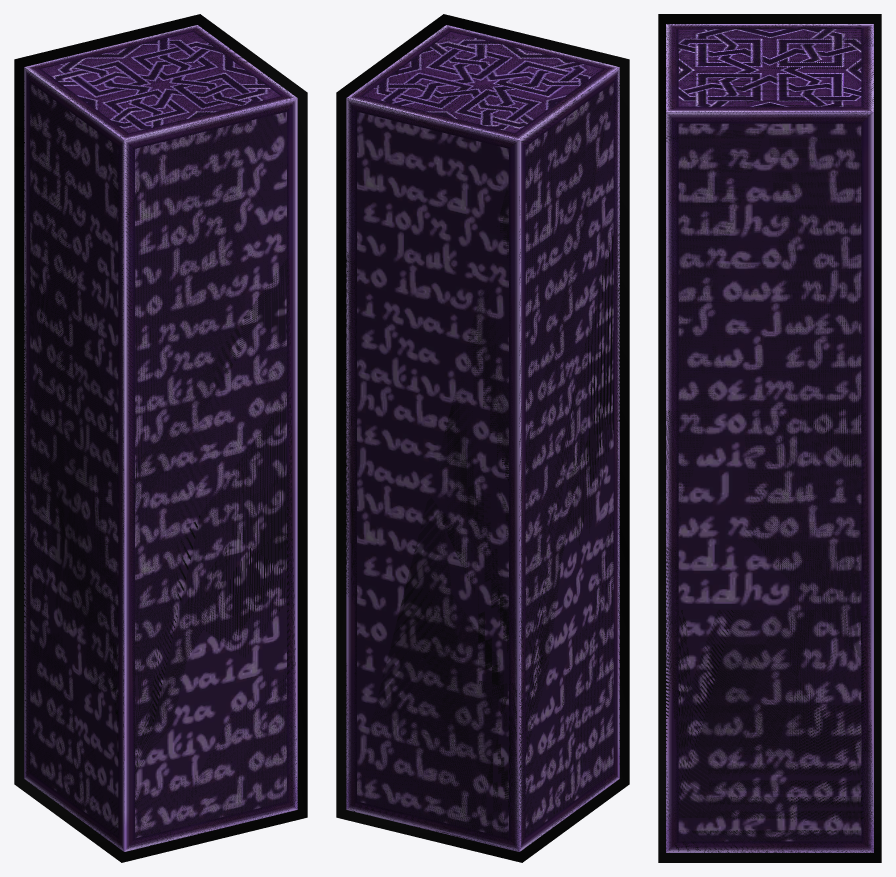
Rendered from WonderPillar2.gltf.
3 renders of one model, left to right at view 1: azimuth 30°, elevation 25°; view 2: azimuth 150°, elevation 25°; view 3: azimuth 270°, elevation 25°, orthographic. The views are drawn at different scales.
Parts seen in each view (by area): view 1: WonderPillar2Mesh, WonderPillar2ZWriteMesh, WonderPillar2BloomMesh; view 2: WonderPillar2Mesh, WonderPillar2ZWriteMesh, WonderPillar2BloomMesh; view 3: WonderPillar2Mesh, WonderPillar2ZWriteMesh, WonderPillar2BloomMesh.
Part boxes in pixels (box(x1,y1,x2,y2)): WonderPillar2Mesh: box(24, 25, 297, 851); WonderPillar2ZWriteMesh: box(24, 25, 297, 848); WonderPillar2BloomMesh: box(14, 14, 307, 862); WonderPillar2Mesh: box(346, 25, 619, 851); WonderPillar2ZWriteMesh: box(346, 25, 619, 850); WonderPillar2BloomMesh: box(336, 14, 629, 862); WonderPillar2Mesh: box(666, 24, 873, 852); WonderPillar2ZWriteMesh: box(666, 24, 873, 852); WonderPillar2BloomMesh: box(658, 14, 881, 862).
Size of the model in its own units: 2.2 by 8.2 by 2.2.
Materials: 4 (2 with a texture image).
